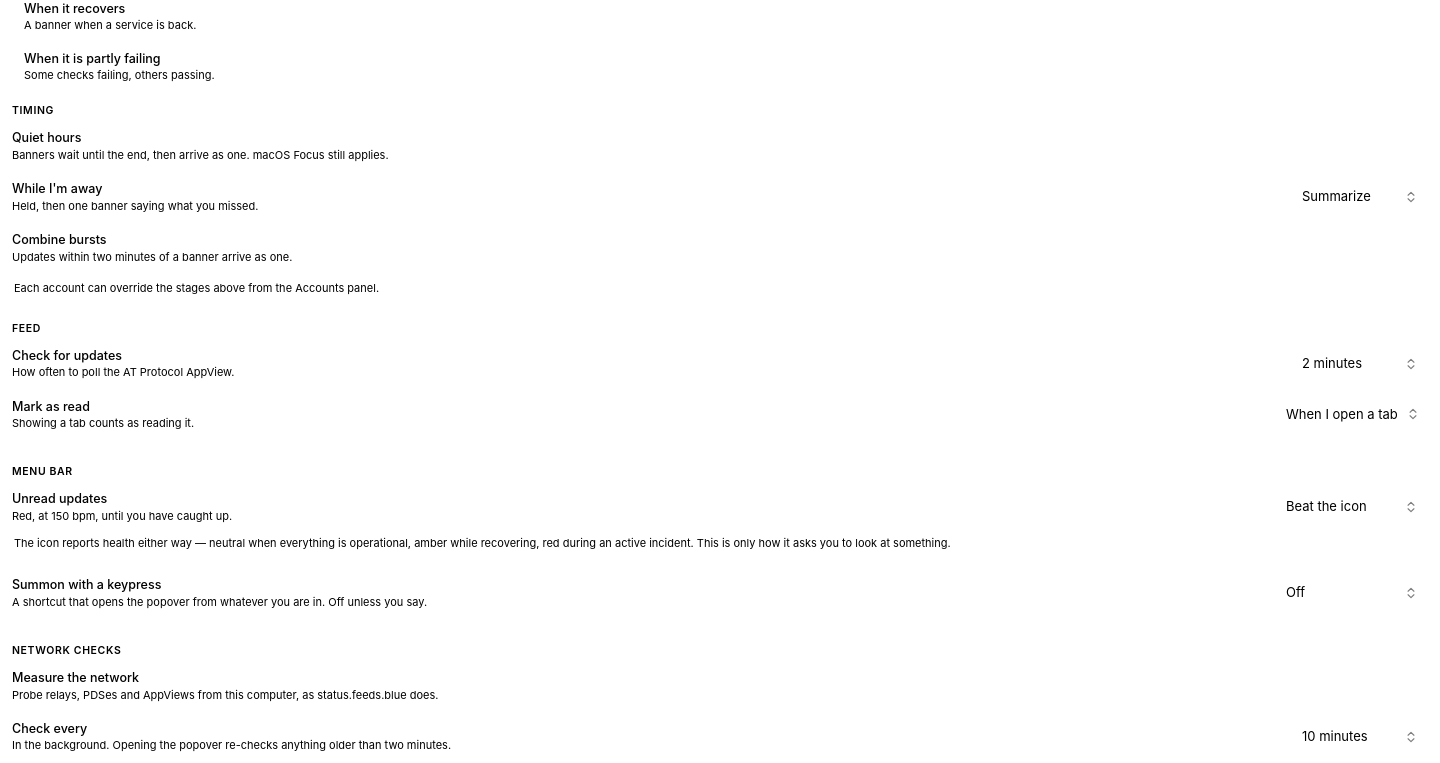
Test case: the feed settings › offers every documented interval
(page scrolled)
Press the mouse on the button "2 minutes" at (1360, 364), box [1292,348,1428,380]
(page scrolled)
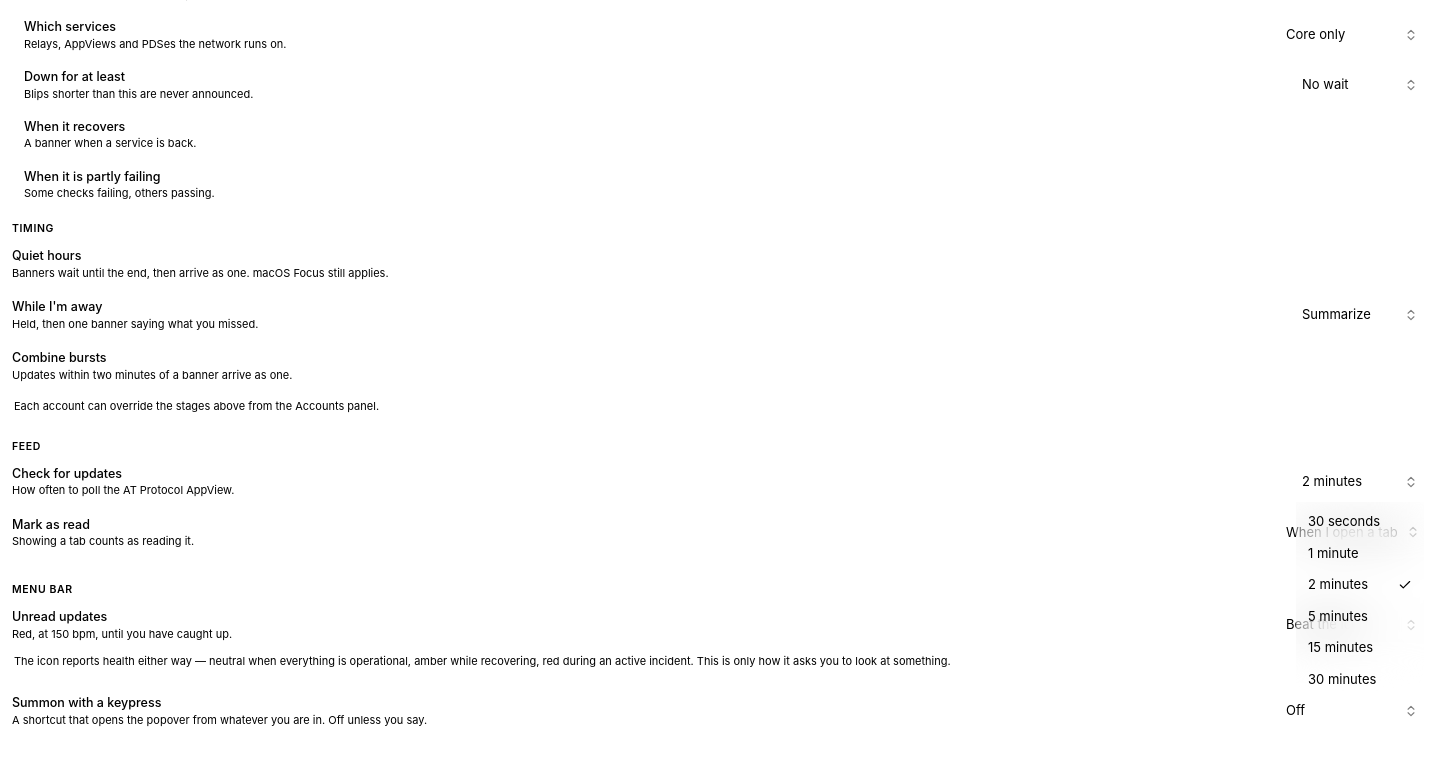
Check: the list shows "30 seconds", box [1308,513,1380,529]
Check: the list shows "1 minute", box [1308,544,1359,560]
Check: the list shows "2 minutes", box [1308,576,1368,592]
